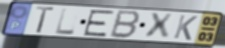B: (108, 9, 143, 40)
E: (81, 9, 117, 38)
K: (172, 14, 199, 42)
L: (54, 8, 76, 36)
T: (34, 5, 56, 34)
X: (144, 13, 175, 40)
